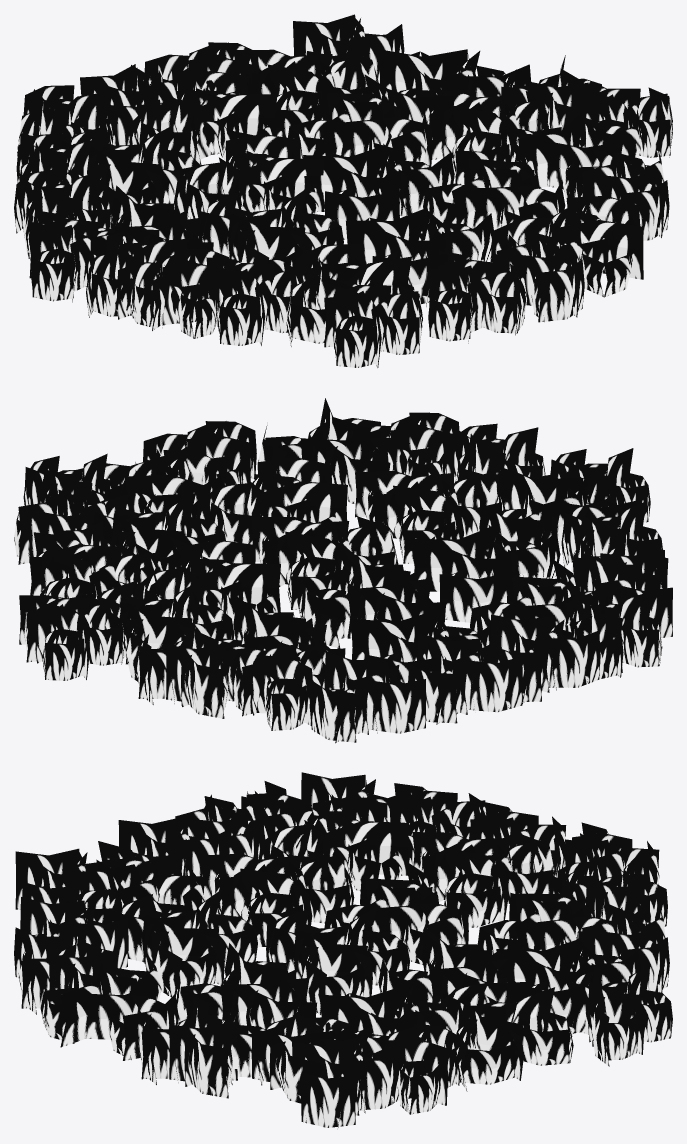
Rendered from FoliageWholeTile.fbx.
3 views of the same model, one above another, from view 1: azimuth 30°, elevation 25°; view 2: azimuth 150°, elevation 25°; view 3: azimuth 270°, elevation 25° (orthographic).
Visible parts, largest first — view 1: Hex0_1.005; view 2: Hex0_1.005; view 3: Hex0_1.005.
Boxes of the visible parts, bbox=[...] form: Hex0_1.005: bbox=[14, 14, 672, 367]; Hex0_1.005: bbox=[14, 398, 672, 743]; Hex0_1.005: bbox=[14, 772, 672, 1128].
Bounding box in the file's own units: 982 × 89.84 × 880.
